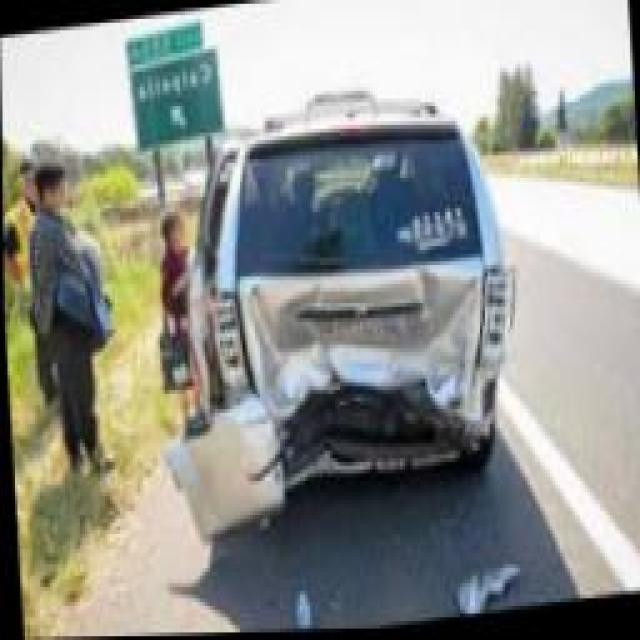Bumper: (174, 393, 479, 529)
Dickey: (238, 259, 482, 424)
Light: (206, 300, 249, 398), (475, 276, 512, 369)
